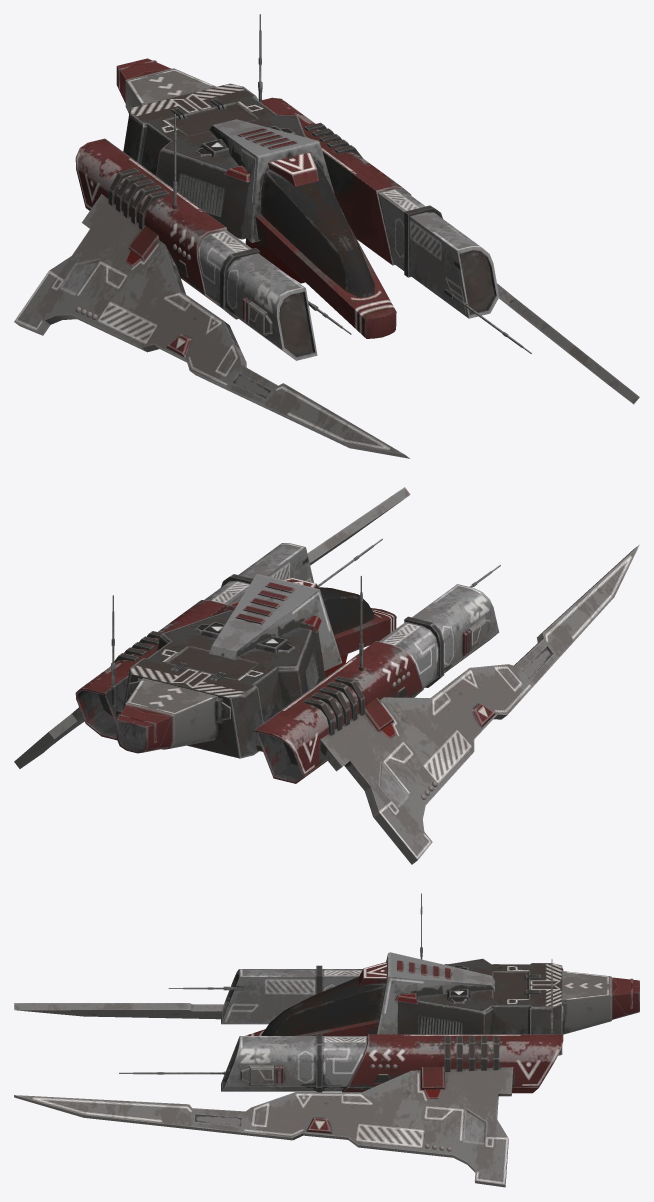
Rendered from striker_red.glb.
3 views of the same model, one above another, from view 1: azimuth 30°, elevation 25°; view 2: azimuth 150°, elevation 25°; view 3: azimuth 270°, elevation 25° (orthographic). The views are drawn at different scales.
Parts seen in each view (by area): view 1: striker; view 2: striker; view 3: striker.
Part boxes in pixels (bbox=[...]): striker: bbox=[14, 14, 639, 458]; striker: bbox=[14, 487, 639, 864]; striker: bbox=[14, 893, 639, 1187].
Bounding box in the file's own units: 5.03 × 2.68 × 8.43.
Materials: 1 (1 with a texture image).
